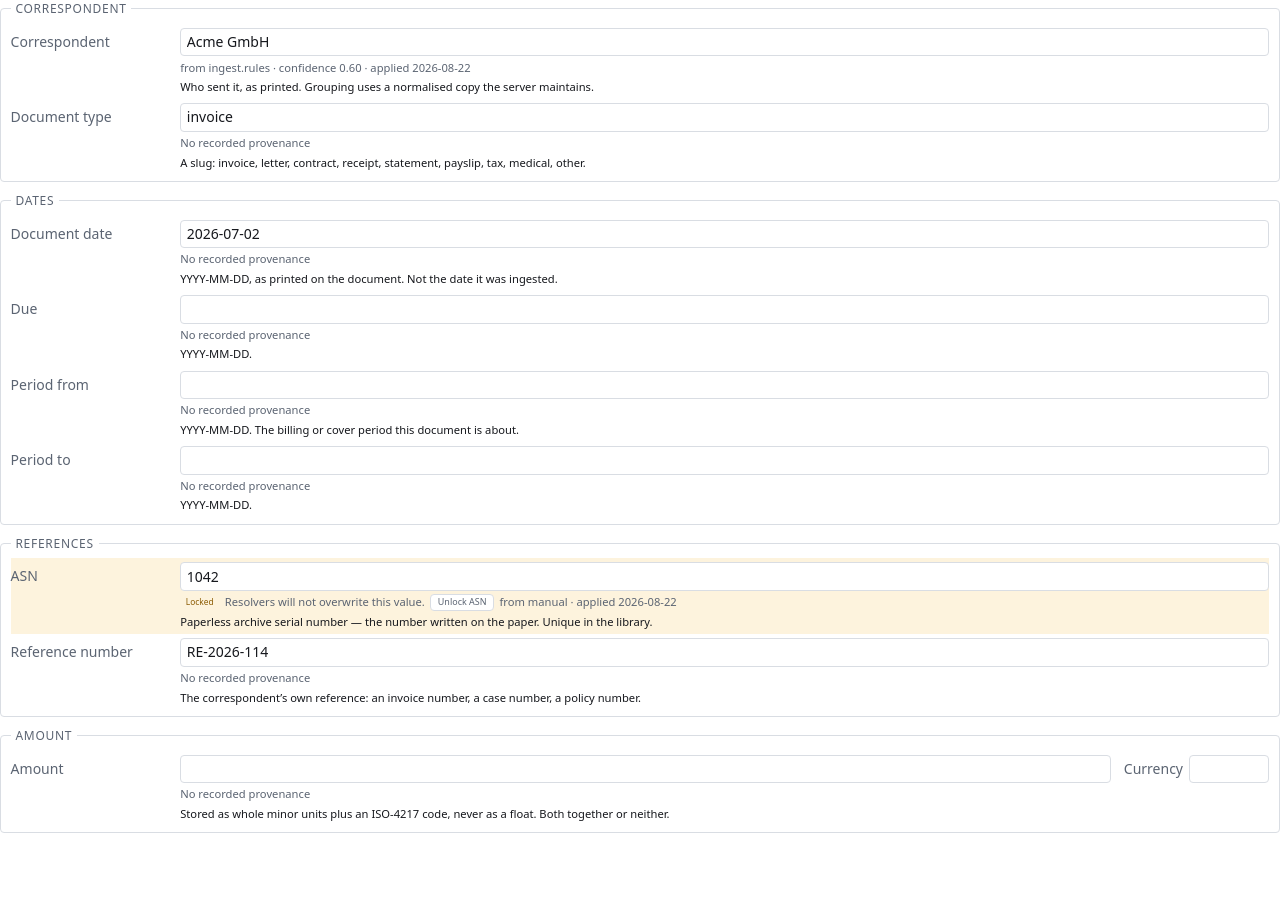
Test: the office section › refuses an amount with no currency locally, rather than sending a body the server must reject
The image size is (1280, 900).
Step 1. Type "99.00" into the field labelled "Amount" → (646, 769), box [180,754,1111,783]
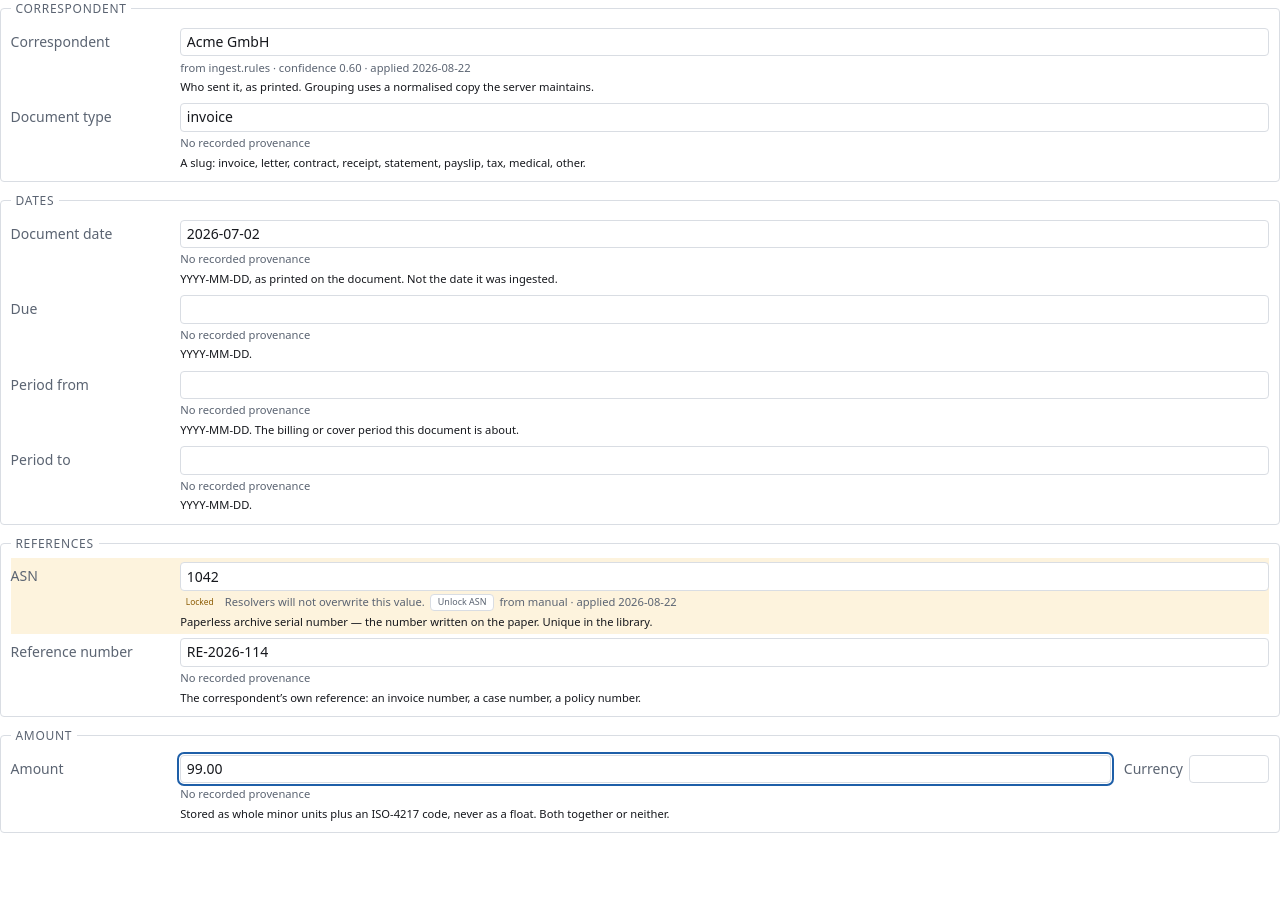
Step 2. Press Tab
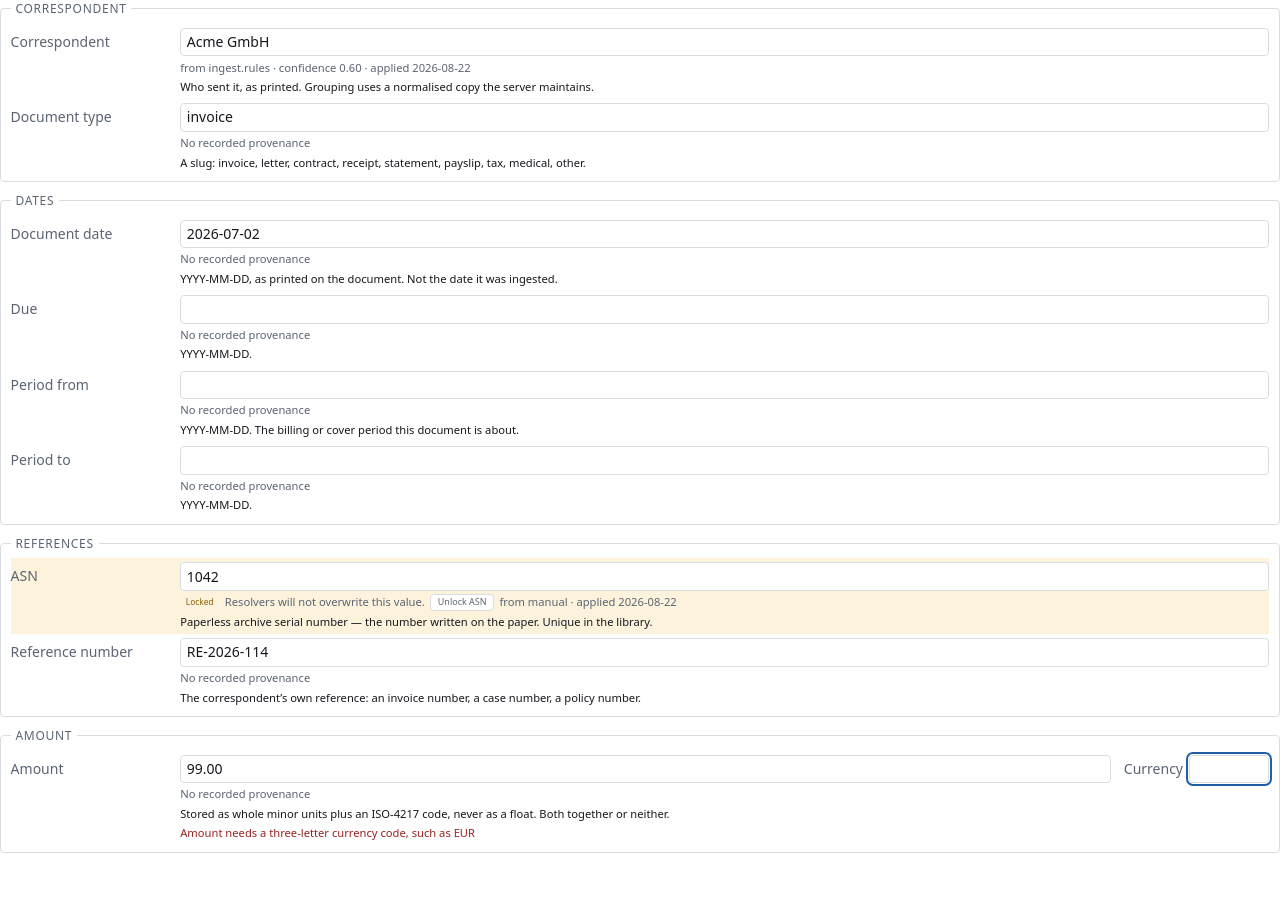
Expected: the message shows "three-letter currency code", [225,825,475,840]
